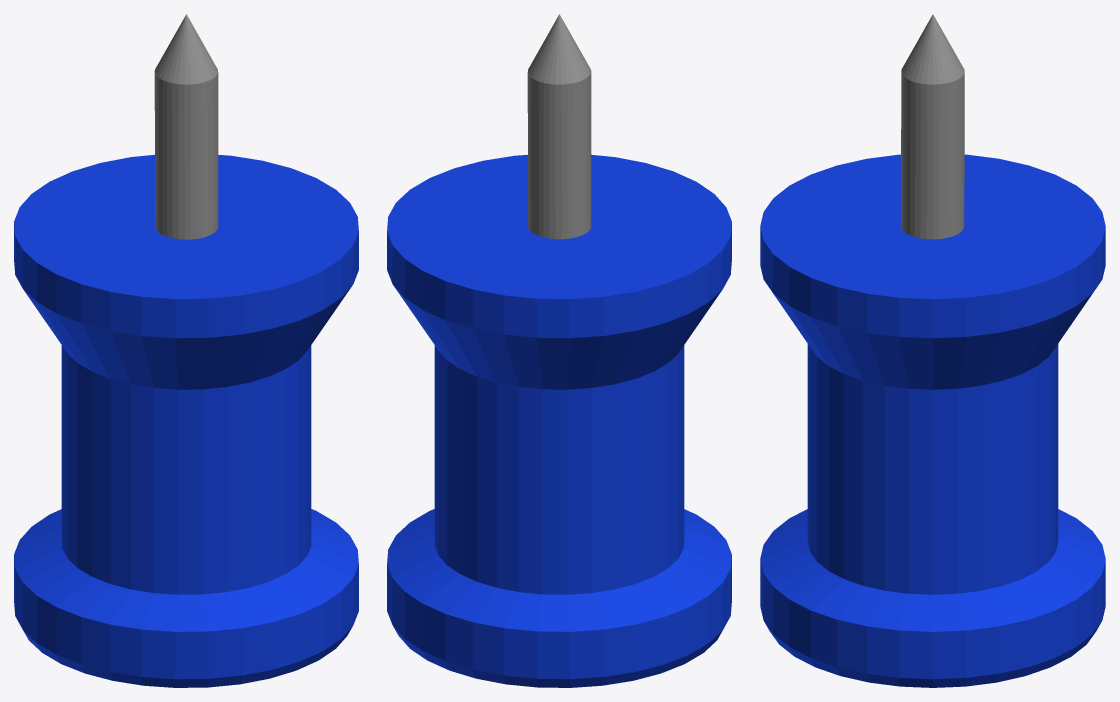
Rendered from punaiseBlue.glb.
The picture shows the model from 3 angles, left to right: view 1: azimuth 30°, elevation 25°; view 2: azimuth 150°, elevation 25°; view 3: azimuth 270°, elevation 25°; orthographic projection.
Visible parts, largest first — view 1: Cylinder; view 2: Cylinder; view 3: Cylinder.
Part boxes in pixels (x1,y1,x2,y2): Cylinder: [14, 14, 358, 687]; Cylinder: [387, 14, 731, 687]; Cylinder: [760, 14, 1105, 687].
Bounding box in the file's own units: 2 × 3.86 × 2.
